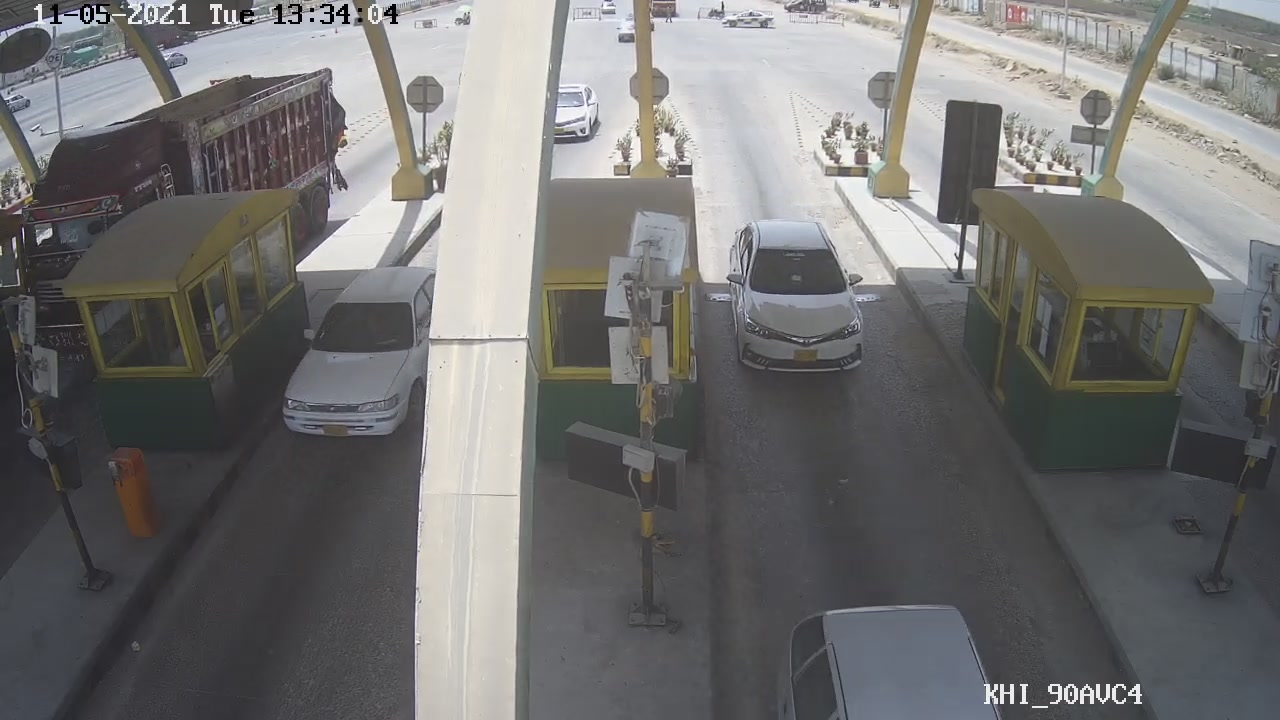F1: (724, 212, 872, 377)
